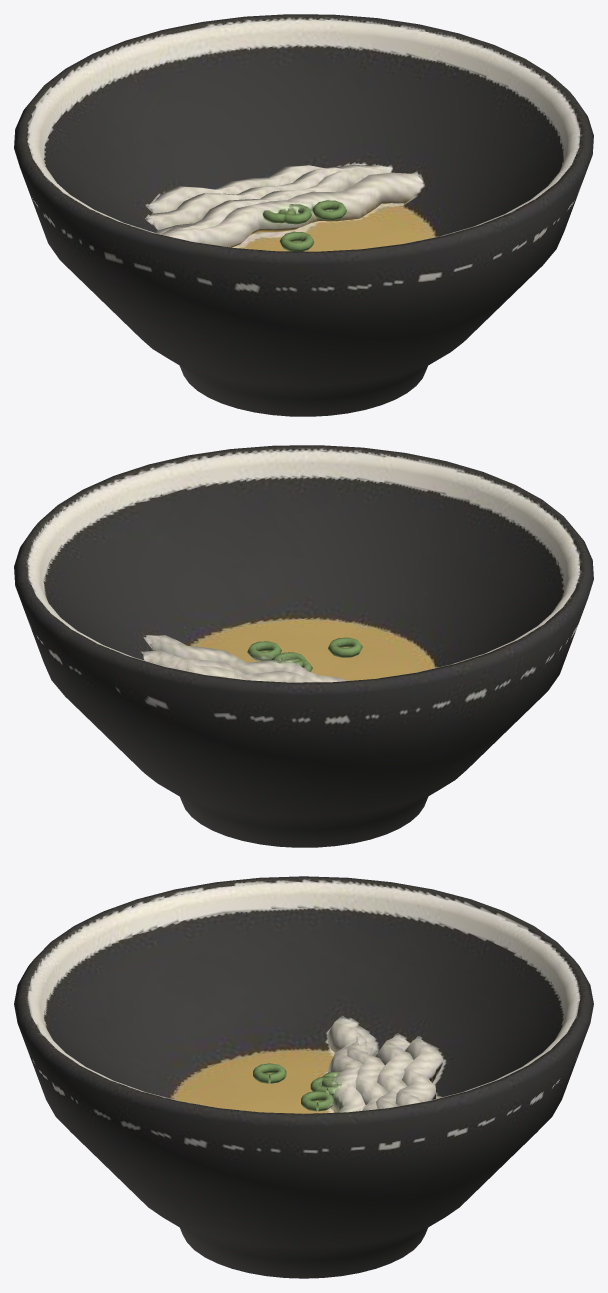
Rendered from udon_b2.glb.
The picture shows the model from 3 angles, top to bottom: view 1: azimuth 30°, elevation 25°; view 2: azimuth 150°, elevation 25°; view 3: azimuth 270°, elevation 25°; orthographic projection.
Parts seen in each view (by area): view 1: prop_udon_b2_felt; view 2: prop_udon_b2_felt; view 3: prop_udon_b2_felt.
Part boxes in pixels (<box>): prop_udon_b2_felt: <box>14,14,593,416</box>; prop_udon_b2_felt: <box>14,445,593,847</box>; prop_udon_b2_felt: <box>14,876,593,1278</box>.
Bounding box in the file's own units: 0.3018 × 0.1323 × 0.3018.
1 material, 1 textured.
